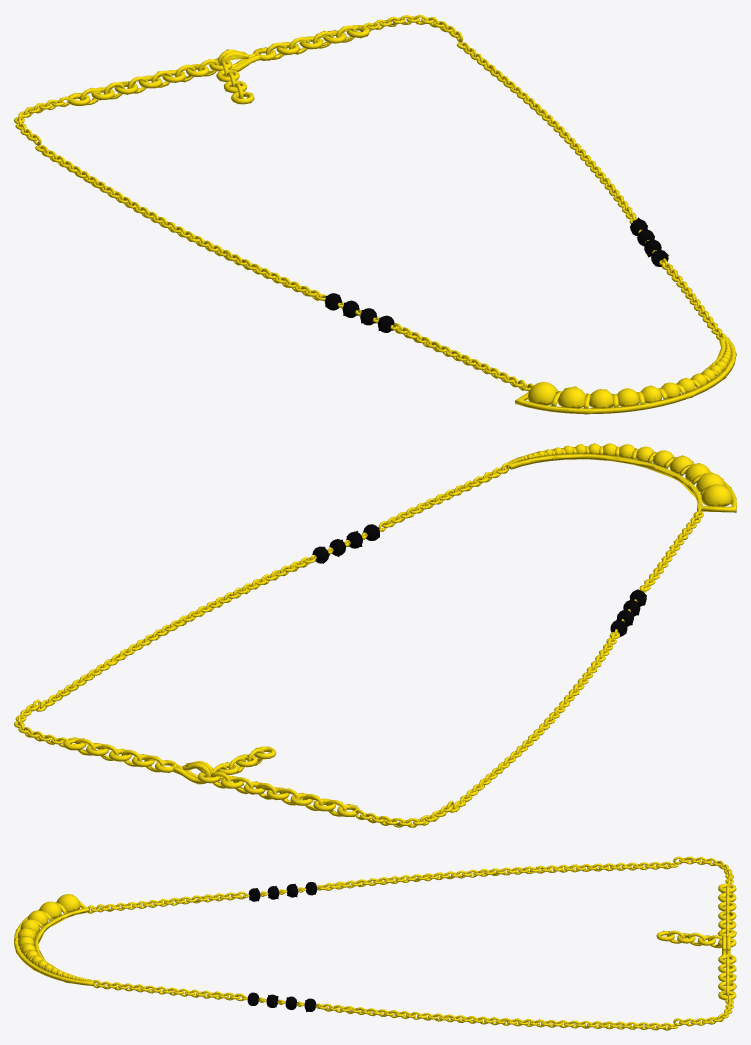
3 renders of one model, top to bottom at view 1: azimuth 30°, elevation 25°; view 2: azimuth 150°, elevation 25°; view 3: azimuth 270°, elevation 25°, orthographic. The views are drawn at different scales.
Visible parts, largest first — view 1: highPolyMesh, lowPolyMesh; view 2: highPolyMesh, lowPolyMesh; view 3: highPolyMesh, lowPolyMesh.
Part boxes in pixels (x1,y1,x2,y2): highPolyMesh: (14, 15, 735, 413); lowPolyMesh: (15, 14, 736, 414); highPolyMesh: (14, 443, 736, 827); lowPolyMesh: (14, 443, 736, 827); highPolyMesh: (14, 856, 736, 1030); lowPolyMesh: (14, 856, 736, 1029).
Size of the model in its own units: 0.0835 by 0.00508 by 0.1542.
